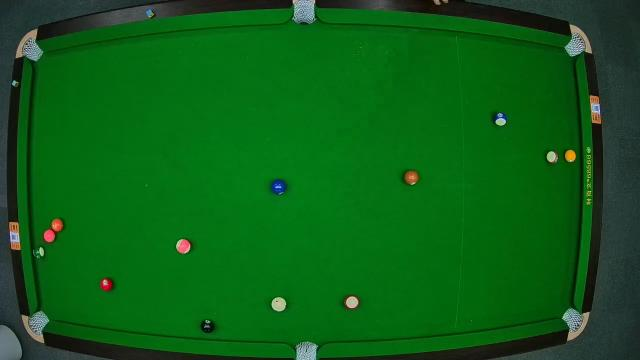bag1: (20, 40, 40, 61)
bag2: (292, 2, 316, 26)
bag3: (567, 36, 589, 58)
bag4: (29, 308, 49, 334)
bag5: (295, 340, 319, 360)
bag6: (562, 308, 584, 332)
ball0: (271, 296, 285, 312)
ball1: (566, 149, 576, 163)
ball10: (492, 112, 508, 126)
ball11: (344, 294, 360, 310)
ball12: (175, 238, 192, 254)
ball14: (30, 246, 46, 260)
ball15: (545, 150, 559, 164)
ball2: (270, 179, 288, 195)
ball3: (100, 277, 114, 291)
ball4: (43, 228, 57, 244)
ball5: (50, 218, 64, 232)
ball7: (404, 170, 418, 186)
ball8: (201, 318, 215, 334)
